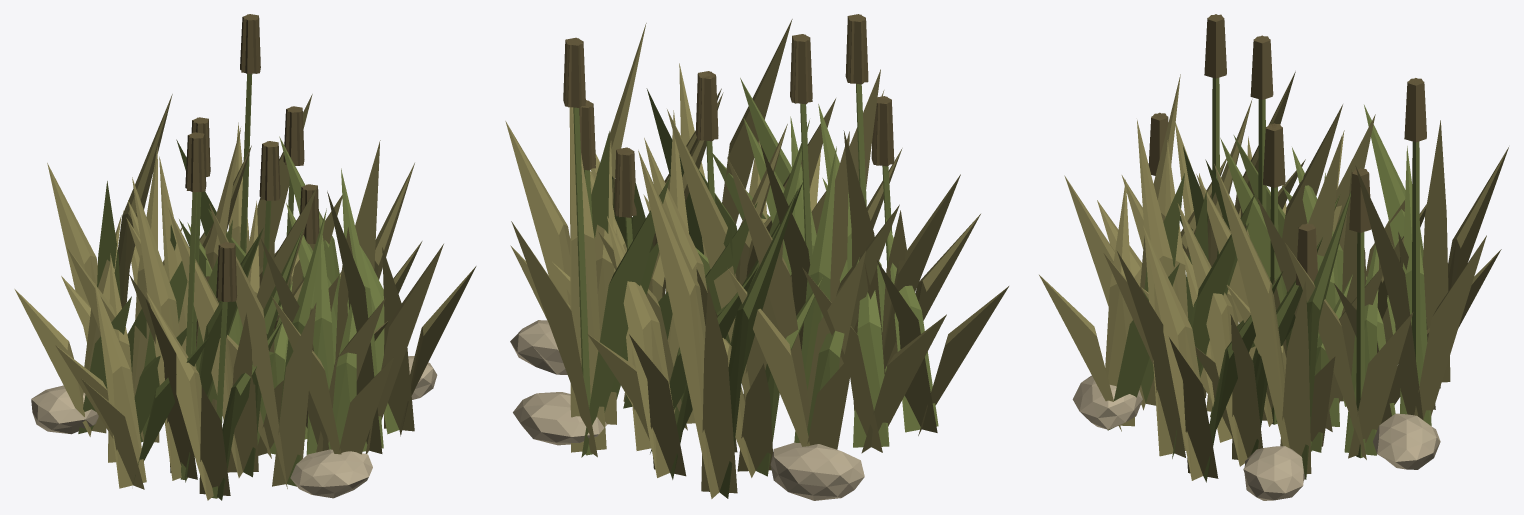
Rendered from reeds.glb.
3 renders of one model, left to right at view 1: azimuth 30°, elevation 25°; view 2: azimuth 150°, elevation 25°; view 3: azimuth 270°, elevation 25°, orthographic. The views are drawn at different scales.
Parts seen in each view (by area): view 1: reeds_detail, reeds_far; view 2: reeds_detail, reeds_far; view 3: reeds_detail, reeds_far.
Part boxes in pixels (box(x1,y1,x2,y2)): reeds_detail: box(14, 14, 476, 500); reeds_far: box(186, 14, 317, 301); reeds_detail: box(505, 14, 1008, 500); reeds_far: box(567, 14, 893, 217); reeds_detail: box(1039, 14, 1508, 500); reeds_far: box(1151, 14, 1426, 272).
Bounding box in the file's own units: 1.86 × 1.6 × 1.84.
